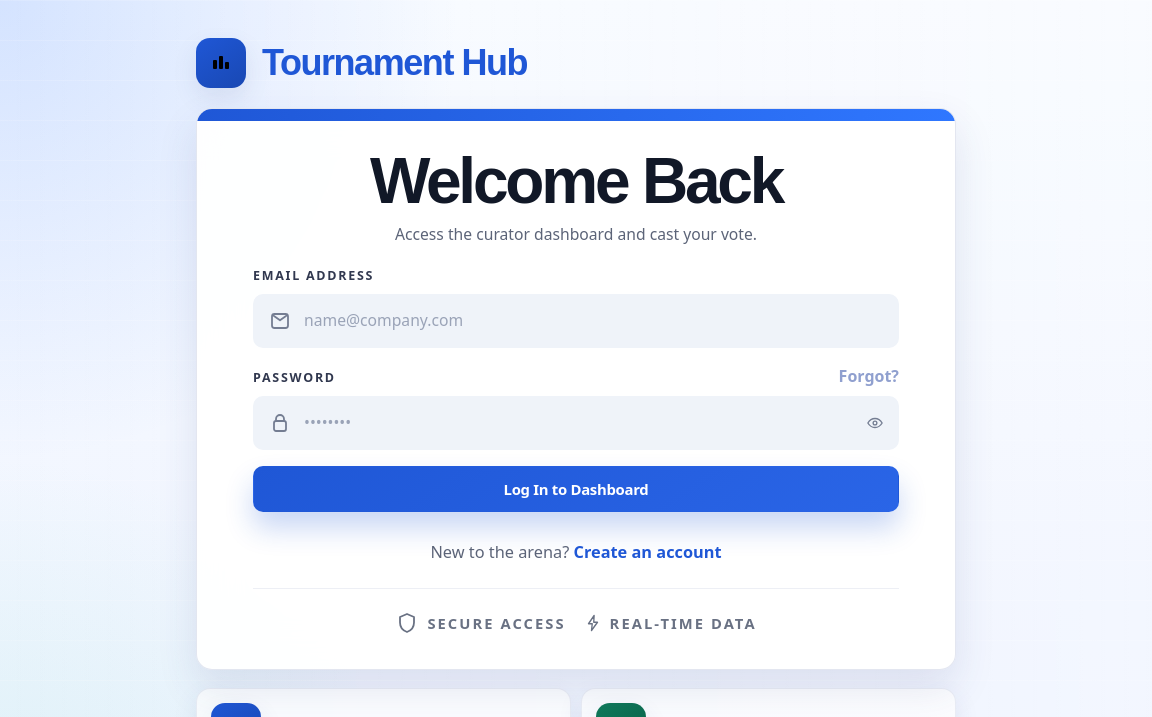
LoginPage › shows invalid credentials correctly on login
Step 1. Type "curator@tournamenthub.test" into the field labelled "Email Address" → coordinates (588, 321), box top-left (304, 309), bottom-right (872, 333)
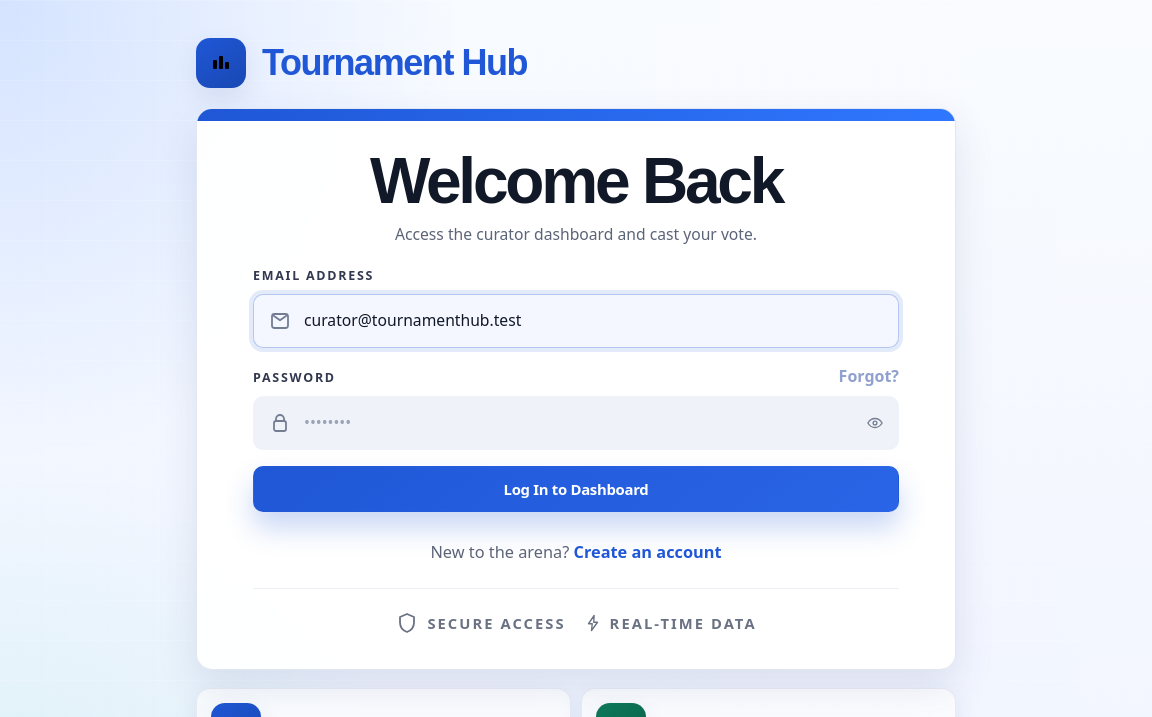
Step 2. Type "wrong-password" into the password field labelled "Password" → coordinates (579, 423), box top-left (304, 411), bottom-right (854, 435)
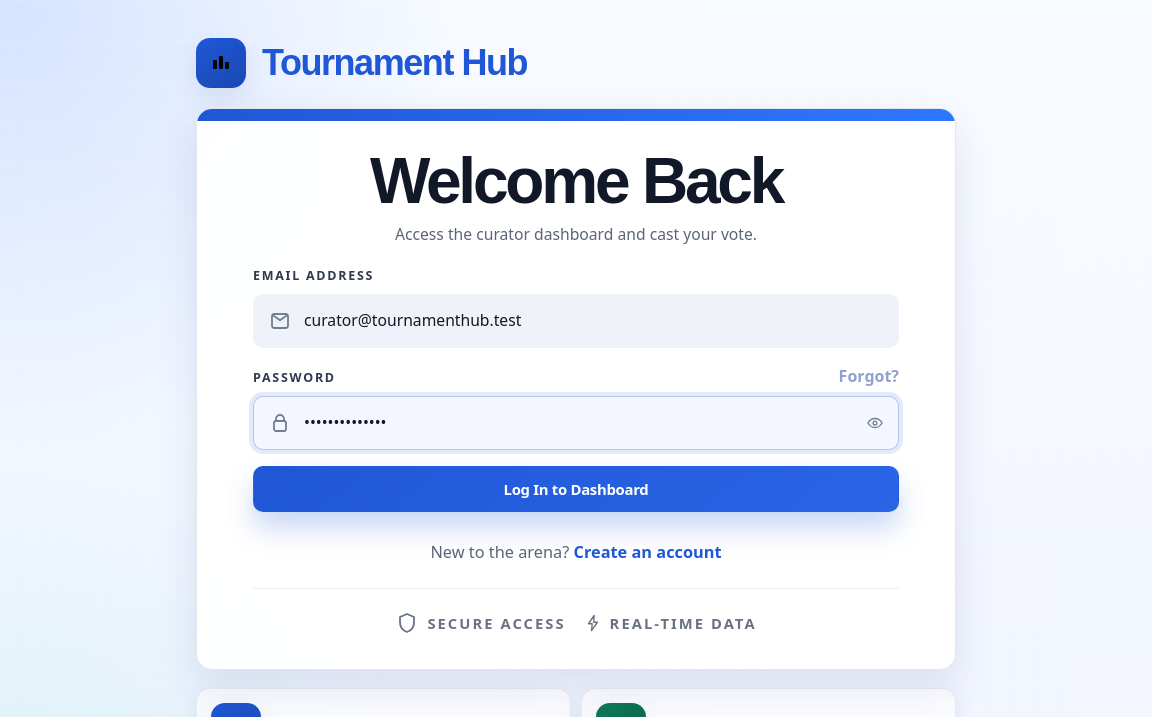
Step 3. Click the button "Log In to Dashboard" → coordinates (576, 489), box top-left (253, 466), bottom-right (899, 512)
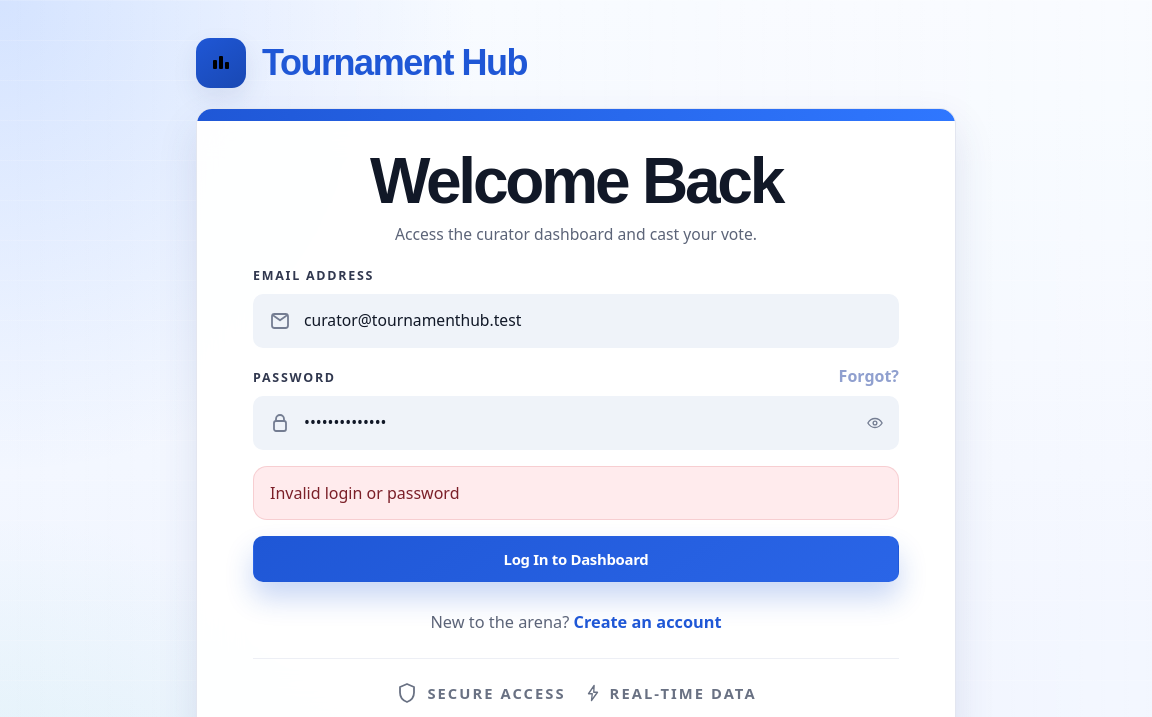
Expected: the text "Invalid login or password" is shown, top-left (270, 482), bottom-right (460, 504)
